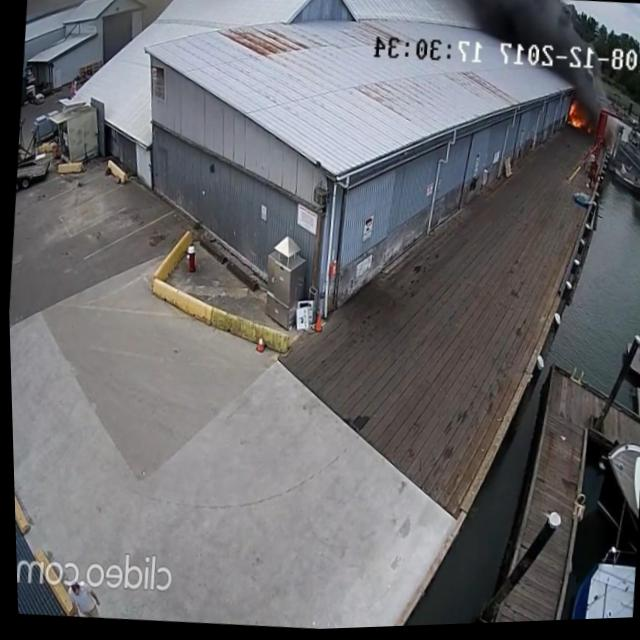fire: (564, 103, 591, 137)
